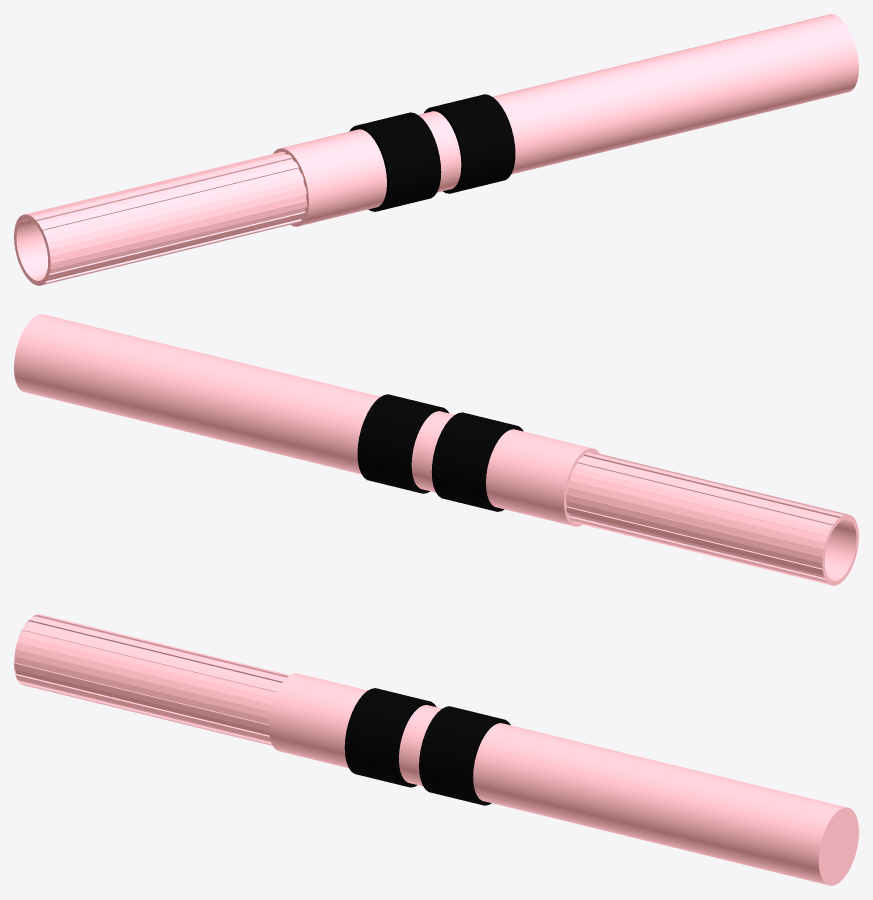
File: normalGun.fbx
3 renders of one model, top to bottom at view 1: azimuth 30°, elevation 25°; view 2: azimuth 150°, elevation 25°; view 3: azimuth 330°, elevation 25°, orthographic.
Parts seen in each view (by area): view 1: 円柱, 円柱.001, 円柱.002, 円柱.003; view 2: 円柱, 円柱.001, 円柱.002, 円柱.003; view 3: 円柱, 円柱.001, 円柱.003, 円柱.002.
Boxes of the visible parts, x1=… form: 円柱: x1=273, y1=14, x2=858, y2=226; 円柱.001: x1=14, y1=152, x2=307, y2=285; 円柱.002: x1=349, y1=112, x2=441, y2=211; 円柱.003: x1=424, y1=94, x2=515, y2=193; 円柱: x1=14, y1=314, x2=599, y2=526; 円柱.001: x1=565, y1=452, x2=858, y2=585; 円柱.002: x1=431, y1=412, x2=523, y2=511; 円柱.003: x1=357, y1=394, x2=448, y2=493; 円柱: x1=268, y1=673, x2=858, y2=885; 円柱.001: x1=14, y1=614, x2=289, y2=745; 円柱.003: x1=419, y1=706, x2=510, y2=805; 円柱.002: x1=344, y1=688, x2=436, y2=787.
Size of the model in its own units: 958 by 91.36 by 91.36.
